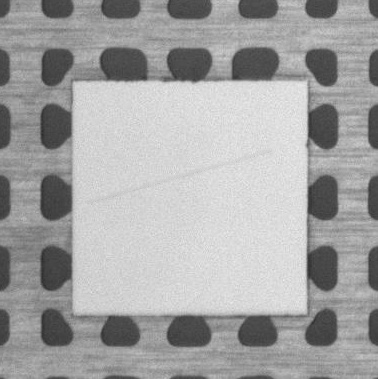DIE_CRACK: (87, 151, 269, 204)
